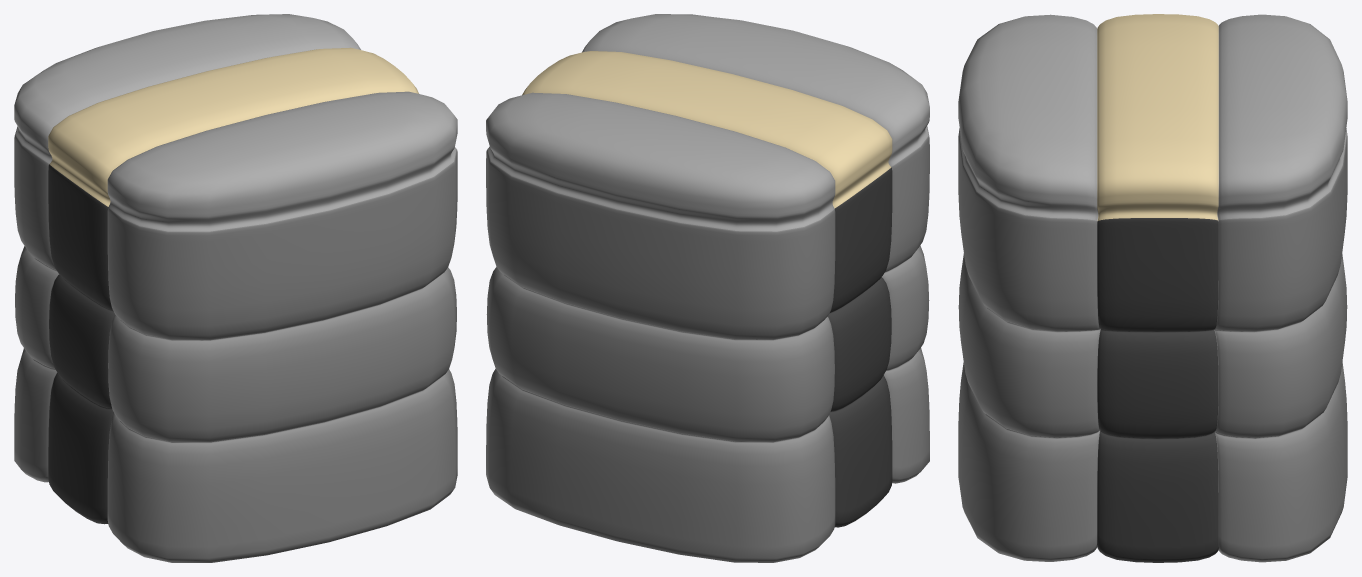
The model's file is SimplePlatform2.fbx.
3 views of the same model, side by side, from view 1: azimuth 30°, elevation 25°; view 2: azimuth 150°, elevation 25°; view 3: azimuth 270°, elevation 25° (orthographic). The views are drawn at different scales.
Visible parts, largest first — view 1: SimplePlatform2; view 2: SimplePlatform2; view 3: SimplePlatform2.
Boxes of the visible parts, box(x1,y1,x2,y2) form: SimplePlatform2: box(14, 14, 457, 562); SimplePlatform2: box(486, 14, 929, 562); SimplePlatform2: box(958, 14, 1347, 562).
Size of the model in its own units: 858 by 979 by 842.
